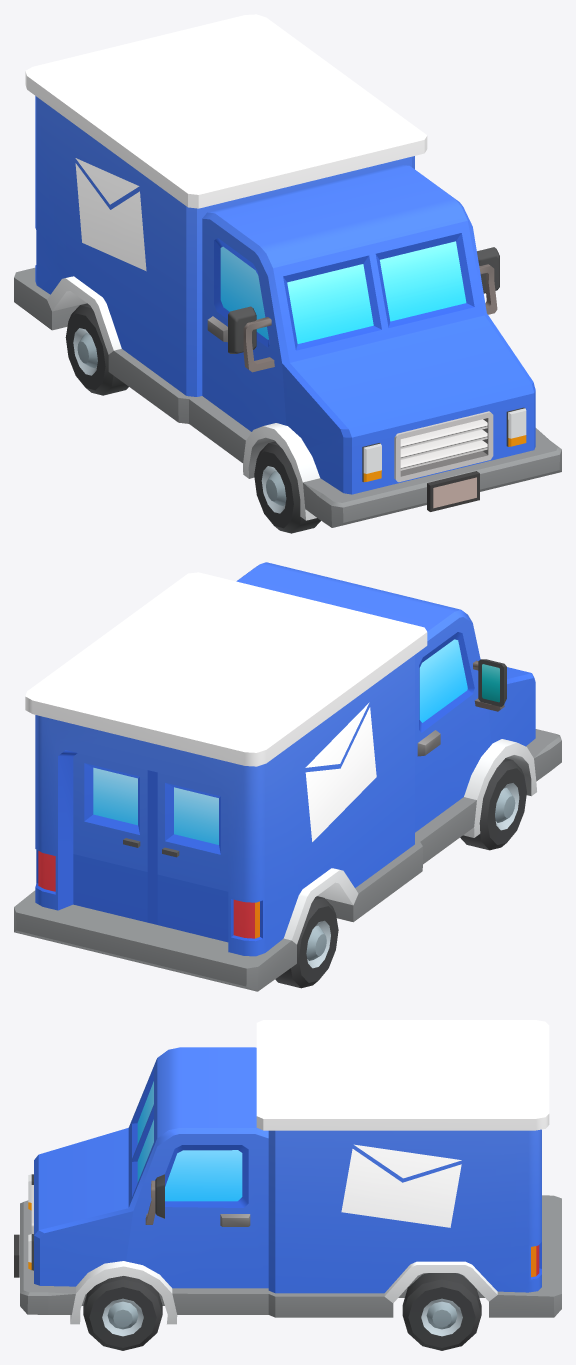
File: Mail_Cargo_01.glb
3 renders of one model, top to bottom at view 1: azimuth 30°, elevation 25°; view 2: azimuth 150°, elevation 25°; view 3: azimuth 270°, elevation 25°, orthographic. The views are drawn at different scales.
Visible parts, largest first — view 1: Mail_Cargo_01, Wheel_221, Wheel_222; view 2: Mail_Cargo_01, Wheel_221, Wheel_222; view 3: Mail_Cargo_01, Wheel_224, Wheel_223.
Boxes of the visible parts, x1,y1,x2,y2 form: Mail_Cargo_01: [14, 14, 561, 527]; Wheel_221: [254, 441, 320, 533]; Wheel_222: [65, 303, 128, 395]; Mail_Cargo_01: [14, 562, 561, 991]; Wheel_221: [460, 758, 526, 850]; Wheel_222: [275, 896, 338, 988]; Mail_Cargo_01: [14, 1020, 561, 1324]; Wheel_224: [402, 1273, 481, 1350]; Wheel_223: [83, 1276, 162, 1350].
Size of the model in its own units: 2.65 by 2.63 by 5.53.
2 materials, 2 textured.
